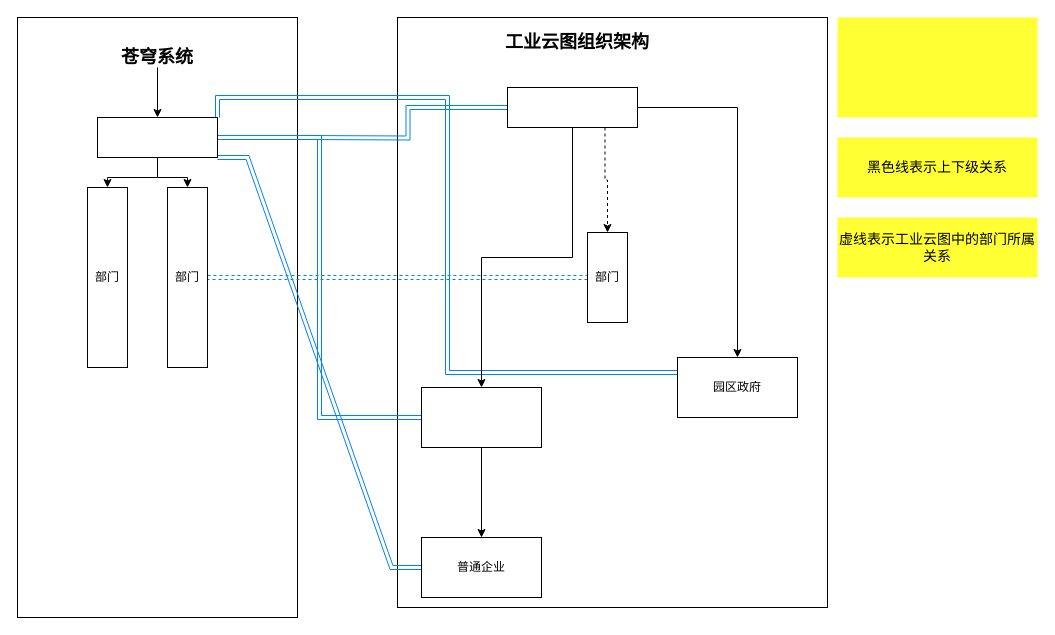
Some shapes in this 1055 by 635 pixel diagram are drawn without their labels. The centre of each missing label's shape, as x and y in pixels:
"县级政府" belongs at (x=481, y=417).
"市级政府" belongs at (x=572, y=107).
"组织1" belongs at (x=157, y=137).
"蓝色线表示对等关系，也就是说，工业云图的组织架构中的市\县\园区\企业均是苍穹中的组织。部门都是苍穹中的部门" belongs at (x=937, y=67).
